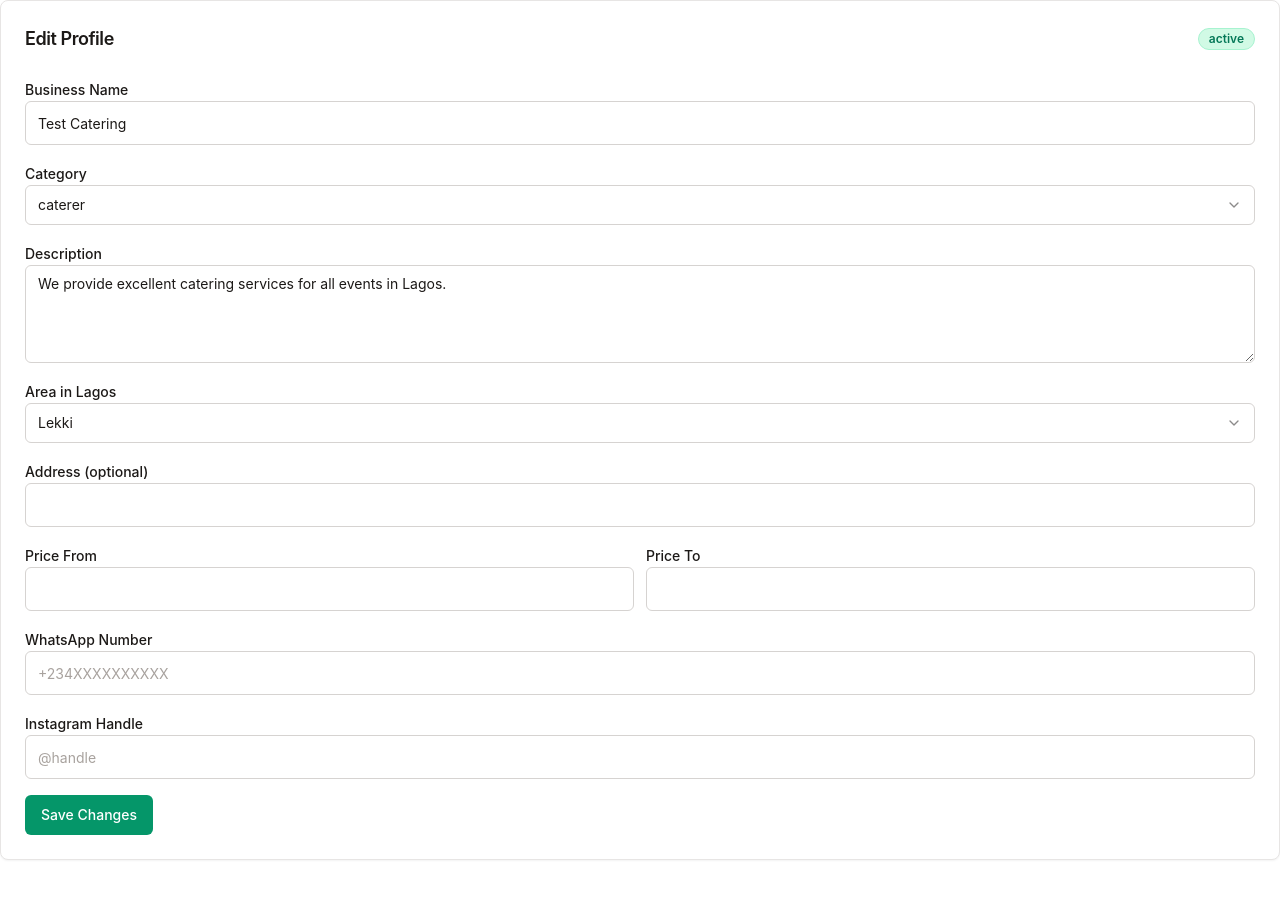
ProfileEditForm › submits update successfully
Replace the text in the field labelled "Business Name" with "Updated Catering" at (640, 123), box x1=25 y1=101 x2=1255 y2=145
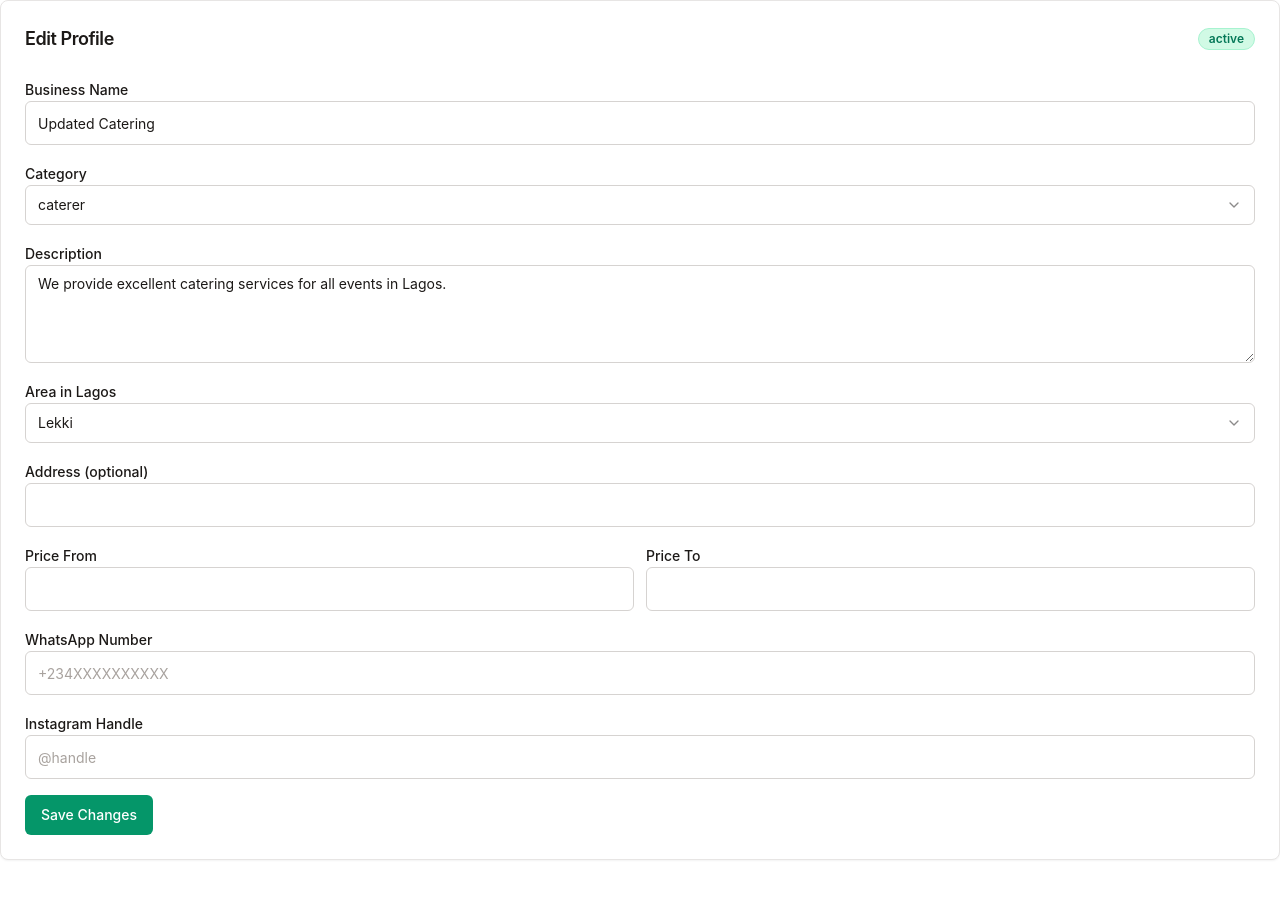
Click the button "Save Changes" at (89, 815), box x1=25 y1=795 x2=153 y2=835
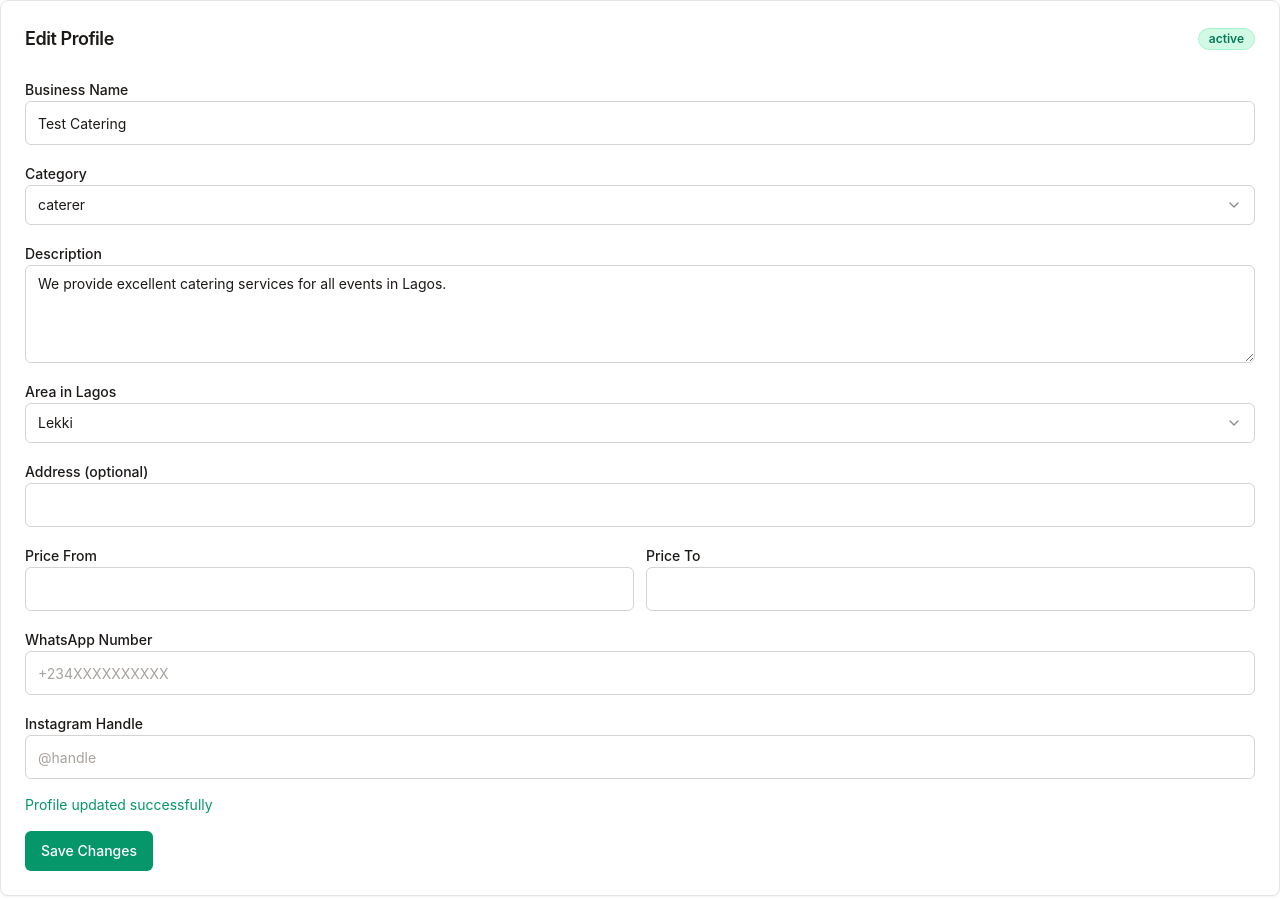
Check: the text "Profile updated successfully" is shown, box x1=25 y1=796 x2=213 y2=813
